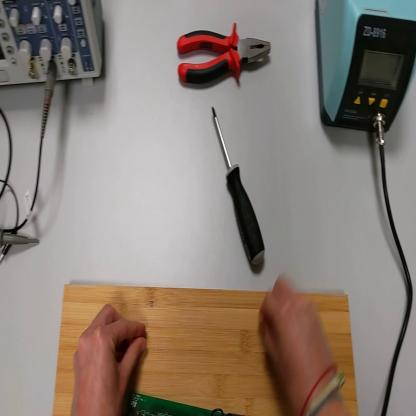hand: (260, 278, 341, 414), (70, 303, 148, 414)
oscilloscope: (2, 2, 106, 99)
oscilloscope probe tip: (2, 232, 40, 248)
pliers: (177, 25, 274, 93)
screwdriver-: (214, 106, 267, 274)
welder station: (314, 2, 416, 134)
working area: (52, 284, 358, 416)
